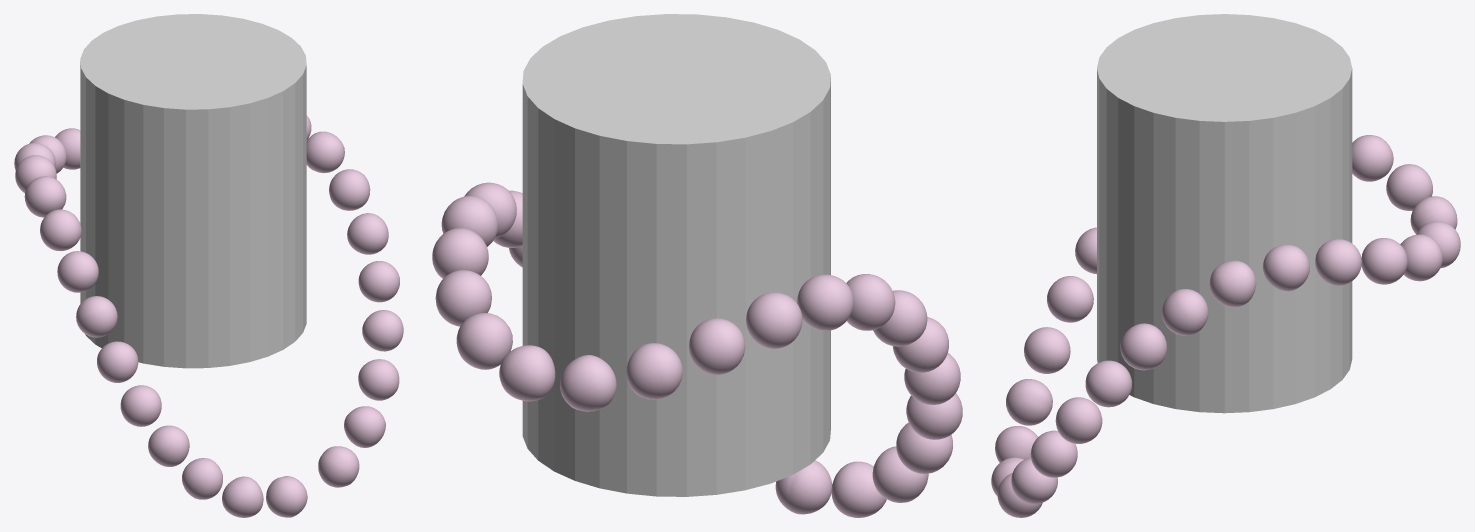
File: necklace.glb
The picture shows the model from 3 angles, left to right: view 1: azimuth 30°, elevation 25°; view 2: azimuth 150°, elevation 25°; view 3: azimuth 270°, elevation 25°; orthographic projection. The views are drawn at different scales.
Visible parts, largest first — view 1: neck_helper, lace; view 2: neck_helper, lace; view 3: neck_helper, lace.
Part boxes in pixels (x1=…): neck_helper: x1=80, y1=14, x2=306, y2=368; lace: x1=14, y1=115, x2=403, y2=517; neck_helper: x1=522, y1=14, x2=830, y2=496; lace: x1=432, y1=182, x2=962, y2=517; neck_helper: x1=1097, y1=14, x2=1352, y2=413; lace: x1=991, y1=135, x2=1460, y2=517.
Bounding box in the file's own units: 2.32 × 2.72 × 2.67.
